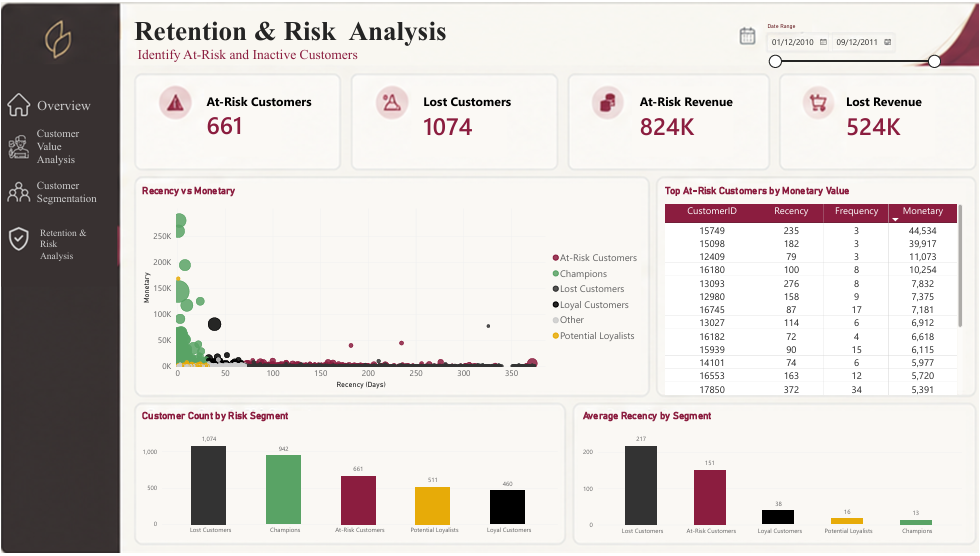

This screenshot's page, from the dashboard's own definition file:
{"tool":"powerbi","page":{"name":"Retention & Risk  Analysis","canvas":[1920,1080],"ordinal":3},"visuals":[{"type":"textbox","box":[70.9,187.6,125.1,35.4],"z":0},{"type":"textbox","box":[69.8,246,137.6,79.2],"z":1},{"type":"textbox","box":[69.8,348.2,137.6,70.9],"z":2},{"type":"textbox","box":[76.1,442,125.1,75.1],"z":3},{"type":"textbox","box":[260.6,25,736,102.2],"z":4},{"type":"slicer","fields":{"Values":["transactions_clean.InvoiceDate"]},"box":[1497,39.6,352.4,104.2],"z":5},{"type":"cardVisual","fields":{"Data":["KPI Cards.At-Risk Customers"]},"box":[387.4,164.8,263.3,119.9],"z":6},{"type":"cardVisual","fields":{"Data":["KPI Cards.Lost Customers"]},"box":[813.1,164.7,210.6,120.9],"z":7},{"type":"cardVisual","fields":{"Data":["KPI Cards.At-Risk Revenue"]},"box":[1238.5,164.7,235.6,120.9],"z":8},{"type":"cardVisual","fields":{"Data":["KPI Cards.Lost Revenue"]},"box":[1642.9,164.7,206.4,120.9],"z":9},{"type":"scatterChart","title":"Recency vs Monetary","fields":{"Series":["customer_rfm_final.Segment"],"Size":["Sum(customer_rfm_final.Frequency)"],"X":["customer_rfm_final.Recency"],"Y":["customer_rfm_final.Monetary"]},"box":[261.1,344.6,1012.4,428.1],"z":10},{"type":"tableEx","title":"Top At-Risk Customers by Monetary Value","fields":{"Values":["customer_rfm_final.CustomerID","customer_rfm_final.Recency","customer_rfm_final.Frequency","customer_rfm_final.Monetary"]},"box":[1288.5,344,615.1,442],"z":11},{"type":"clusteredColumnChart","title":"Customer Count by Risk Segment","fields":{"Category":["customer_rfm_final.Segment"],"Y":["KPI Cards.Total Customers"]},"box":[260.6,786,848.6,279.4],"z":12},{"type":"clusteredColumnChart","title":"Average Recency by Segment","fields":{"Category":["customer_rfm_final.Segment"],"Y":["KPI Cards.Average Recency"]},"box":[1125.9,785.6,777,280.4],"z":13},{"type":"shape","box":[57.8,175.5,162.7,57.8],"z":14},{"type":"shape","box":[57.8,246.2,137,79.2],"z":15},{"type":"shape","box":[68.5,344.6,126.3,70.6],"z":16}]}

Visuals, with their boxes on the page's 1920x1080 design canvas (x1, y1, x2, y2). These are canvas units, not pixel positions in the 980x556 screenshot, which may show the page scaled, cropped or inside an application window:
textbox: <bbox>71, 188, 196, 223</bbox>
textbox: <bbox>70, 246, 207, 325</bbox>
textbox: <bbox>70, 348, 207, 419</bbox>
textbox: <bbox>76, 442, 201, 517</bbox>
textbox: <bbox>261, 25, 997, 127</bbox>
slicer - transactions_clean.InvoiceDate: <bbox>1497, 40, 1849, 144</bbox>
cardVisual - KPI Cards.At-Risk Customers: <bbox>387, 165, 651, 285</bbox>
cardVisual - KPI Cards.Lost Customers: <bbox>813, 165, 1024, 286</bbox>
cardVisual - KPI Cards.At-Risk Revenue: <bbox>1238, 165, 1474, 286</bbox>
cardVisual - KPI Cards.Lost Revenue: <bbox>1643, 165, 1849, 286</bbox>
"Recency vs Monetary" scatterChart: <bbox>261, 345, 1274, 773</bbox>
"Top At-Risk Customers by Monetary Value" tableEx: <bbox>1288, 344, 1904, 786</bbox>
"Customer Count by Risk Segment" clusteredColumnChart: <bbox>261, 786, 1109, 1065</bbox>
"Average Recency by Segment" clusteredColumnChart: <bbox>1126, 786, 1903, 1066</bbox>
shape: <bbox>58, 176, 220, 233</bbox>
shape: <bbox>58, 246, 195, 325</bbox>
shape: <bbox>68, 345, 195, 415</bbox>
